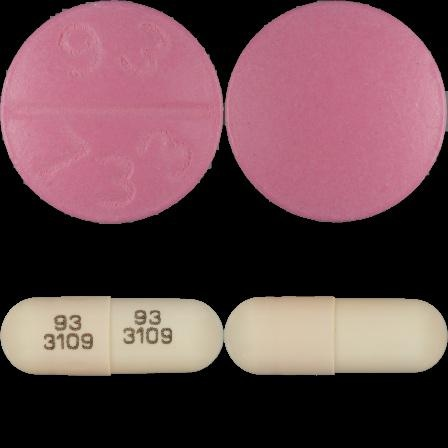66116-810: (0, 0, 224, 224)
